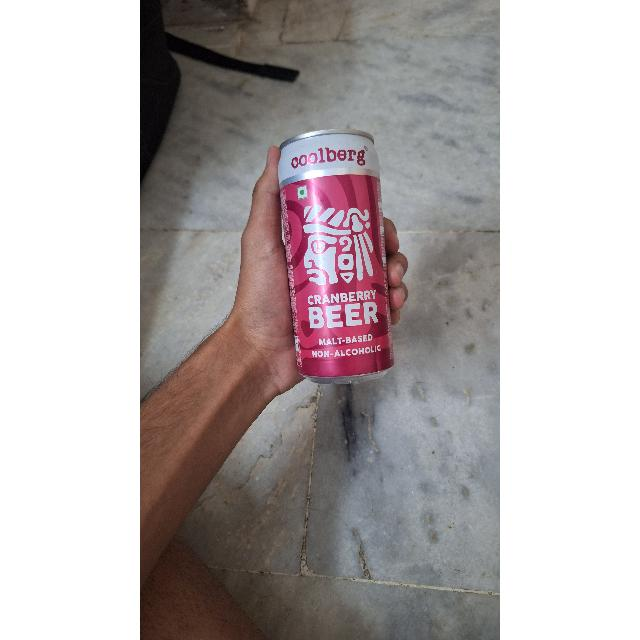Coolberg: (272, 120, 412, 394)
